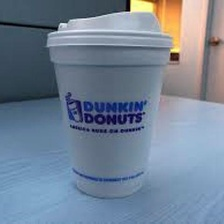paper_cup: (41, 6, 179, 202)
